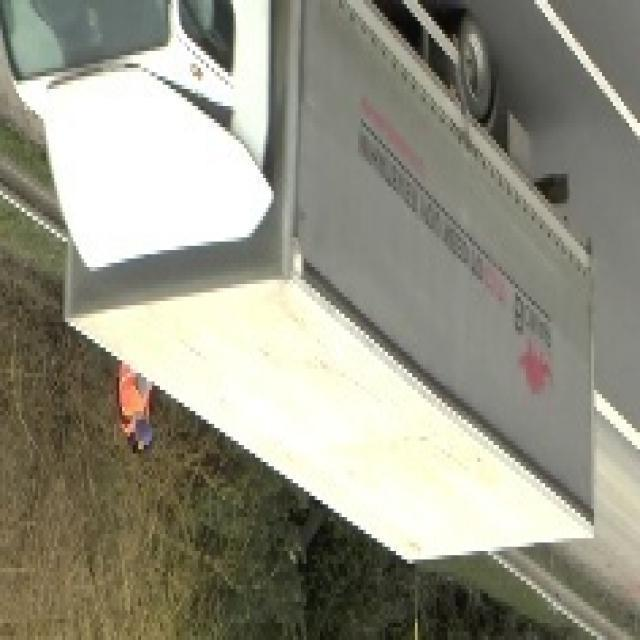truck: (2, 4, 596, 576)
